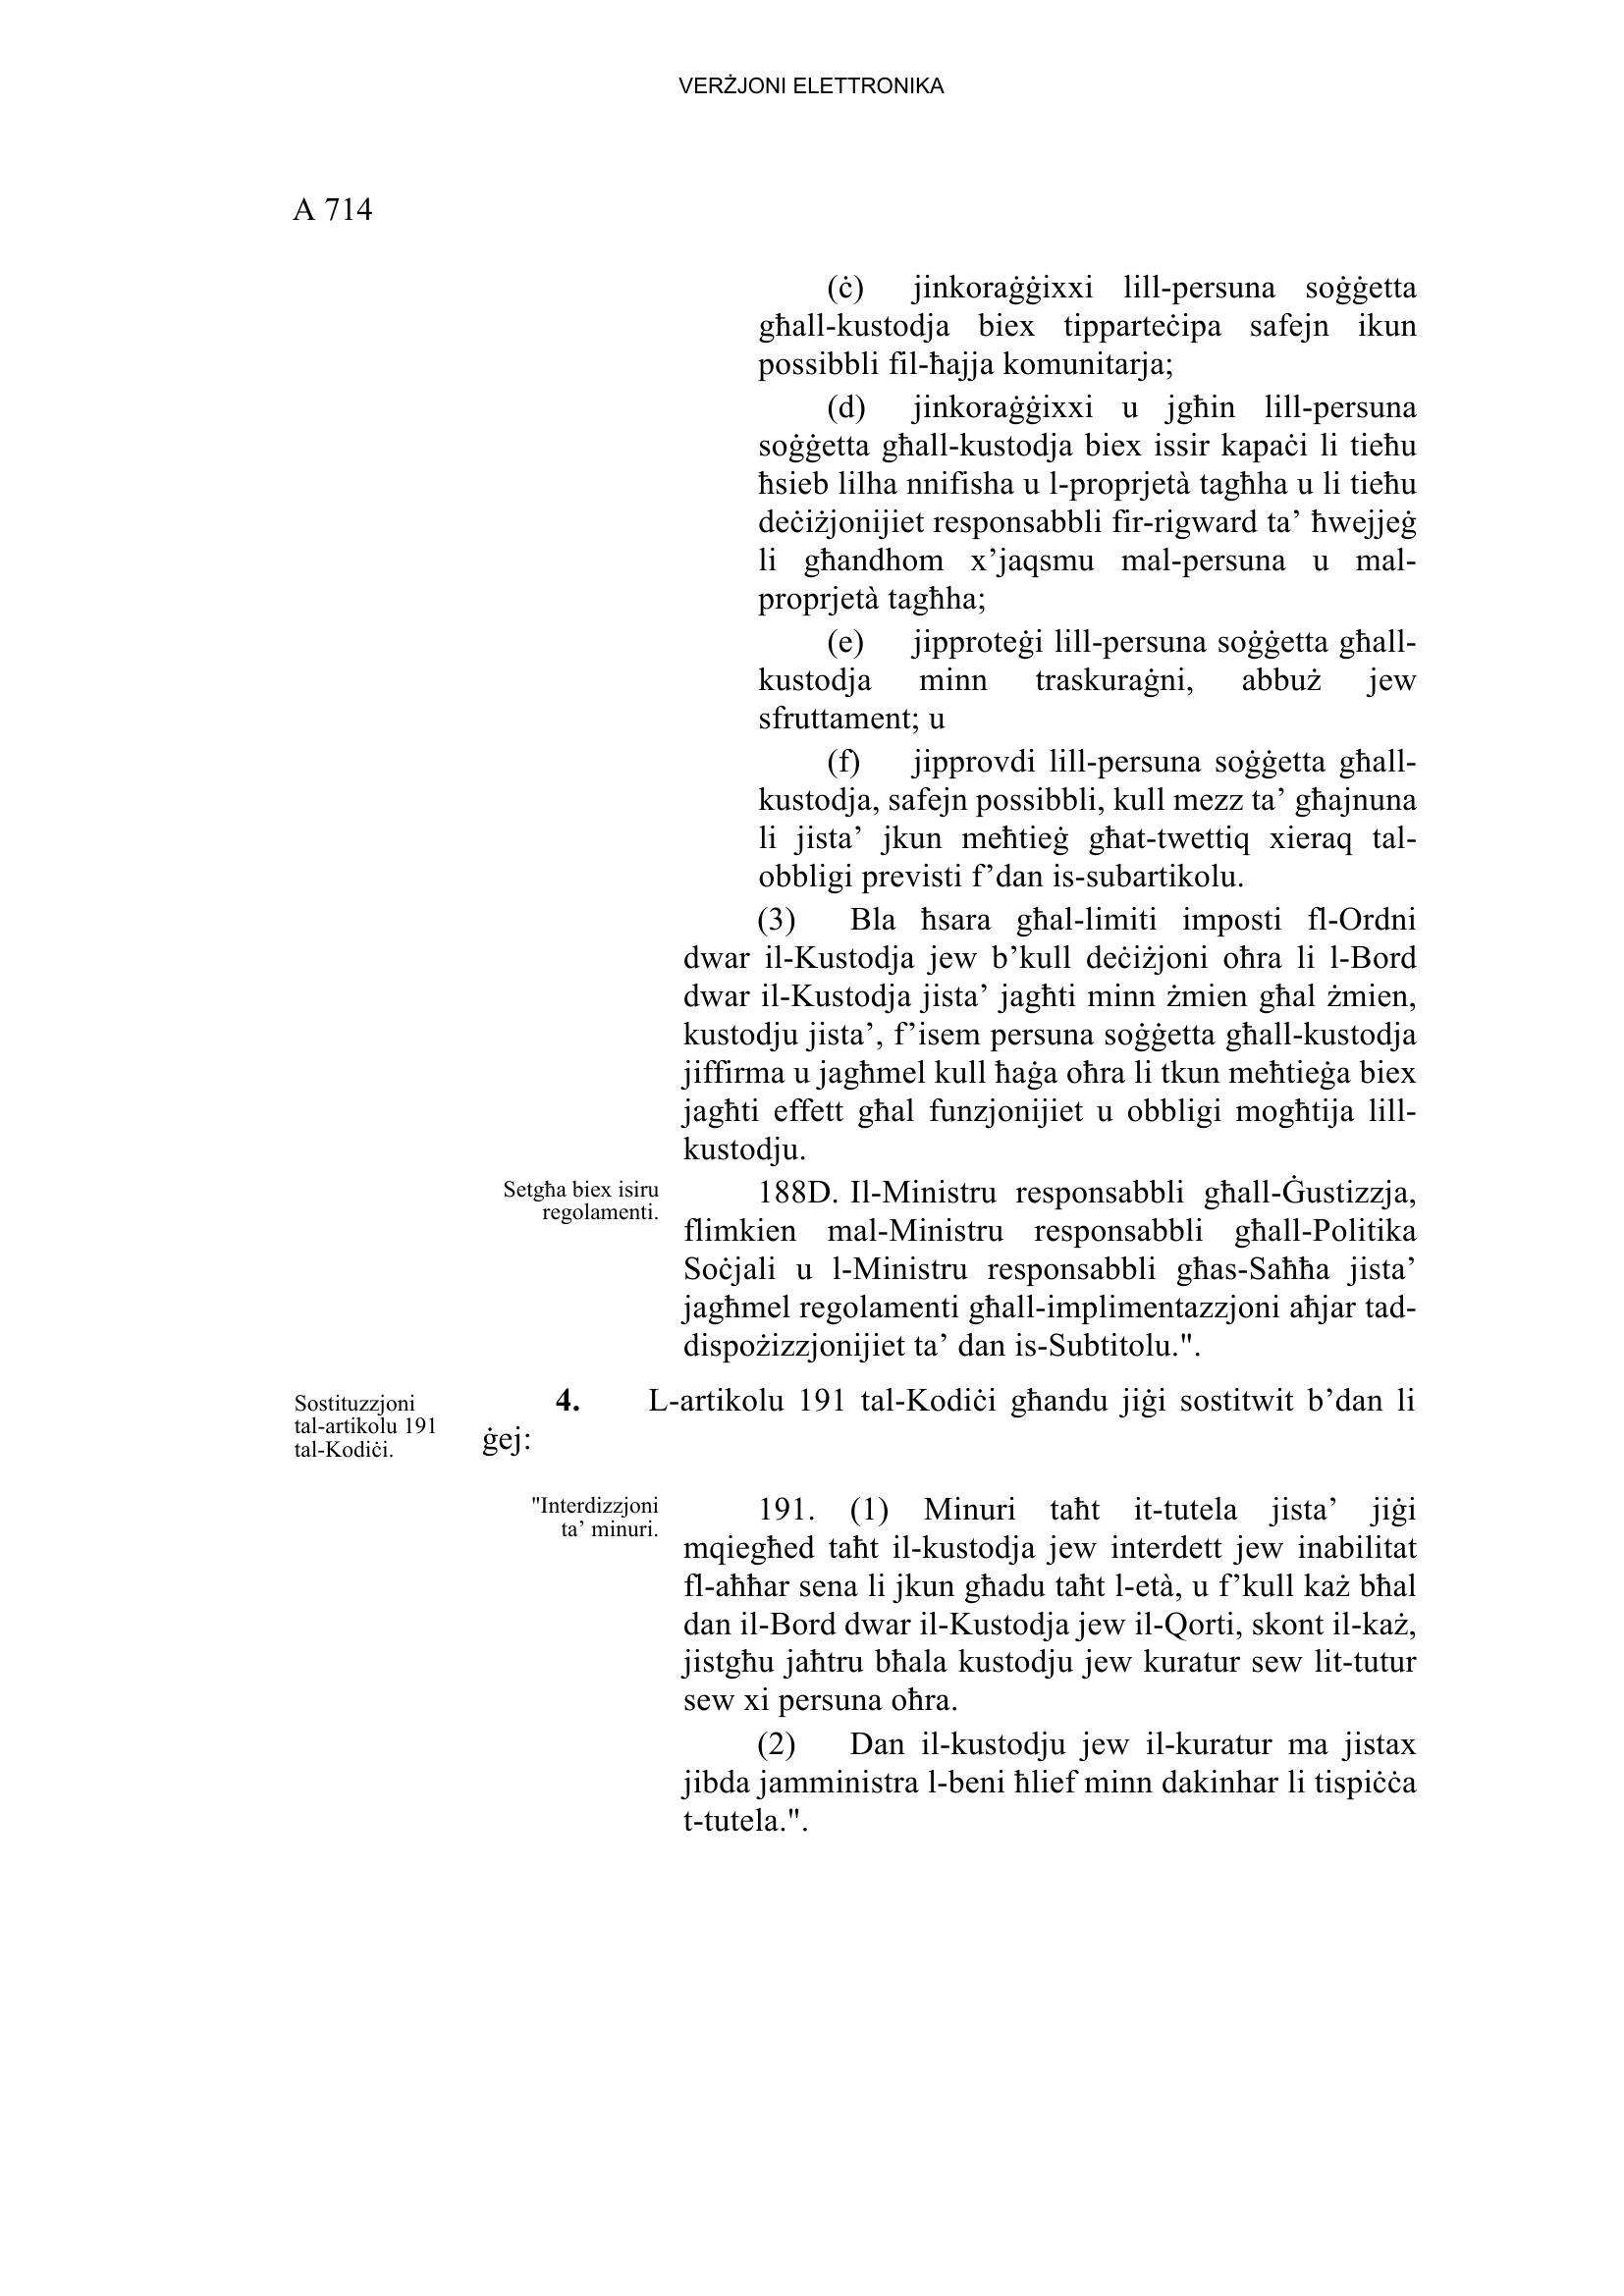text: (459, 246, 1446, 1857)
whiteout: (478, 1154, 671, 1231), (506, 1474, 673, 1558)
